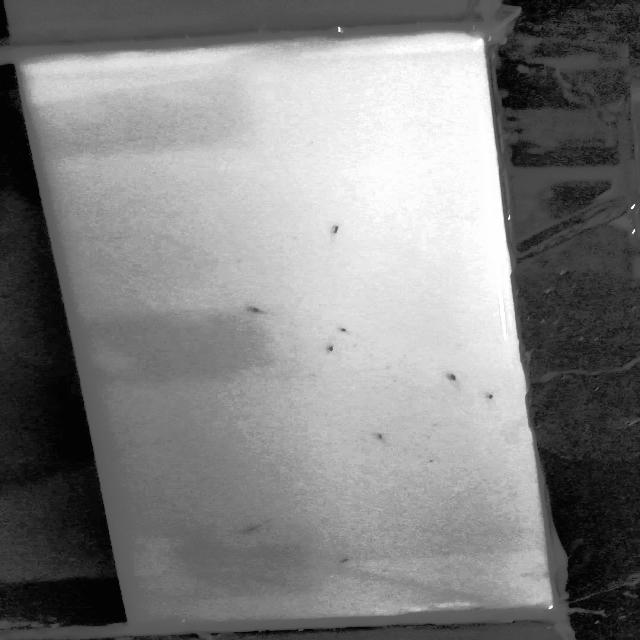shrimp: (237, 305, 275, 321), (232, 523, 273, 536), (362, 426, 390, 445), (319, 221, 350, 238), (438, 367, 462, 387), (332, 553, 366, 567), (315, 341, 343, 356), (332, 322, 354, 339), (481, 388, 503, 404)
